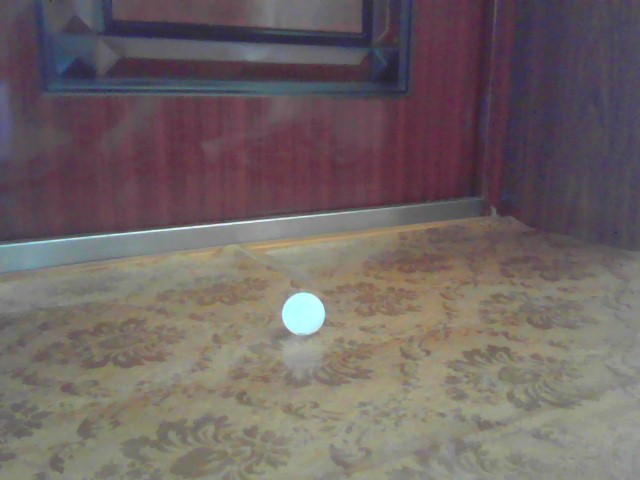ball: (283, 292, 325, 335)
